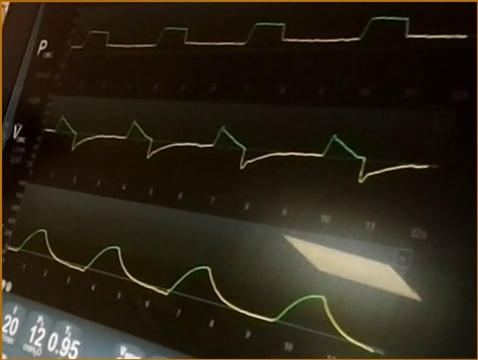Normal Flow: (43, 109, 429, 187)
Normal Volume: (8, 223, 377, 351)
